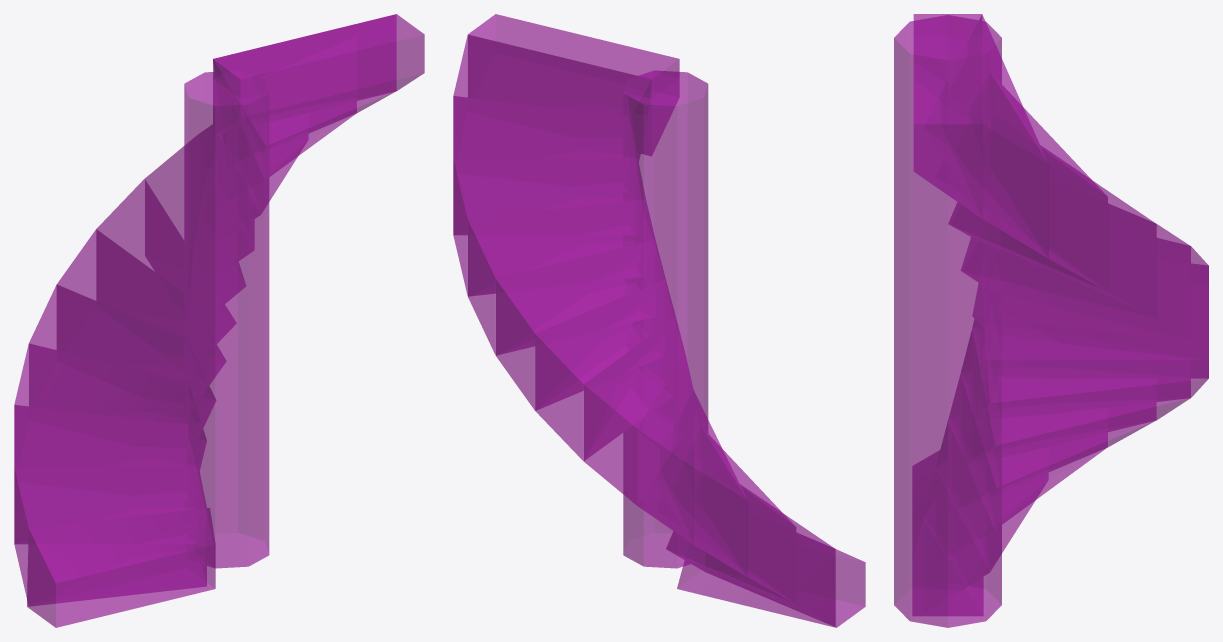
The model's file is SM_Bld_Stairs_Curve_01_Collision.fbx.
3 views of the same model, side by side, from view 1: azimuth 30°, elevation 25°; view 2: azimuth 150°, elevation 25°; view 3: azimuth 270°, elevation 25° (orthographic). The views are drawn at different scales.
Visible parts, largest first — view 1: SM_Bld_Stairs_Curve_01_Collision; view 2: SM_Bld_Stairs_Curve_01_Collision; view 3: SM_Bld_Stairs_Curve_01_Collision.
Part boxes in pixels (bbox=[...]): SM_Bld_Stairs_Curve_01_Collision: bbox=[14, 14, 424, 627]; SM_Bld_Stairs_Curve_01_Collision: bbox=[453, 14, 865, 627]; SM_Bld_Stairs_Curve_01_Collision: bbox=[894, 14, 1208, 627].
Size of the model in its own units: 251 by 327 by 151.
